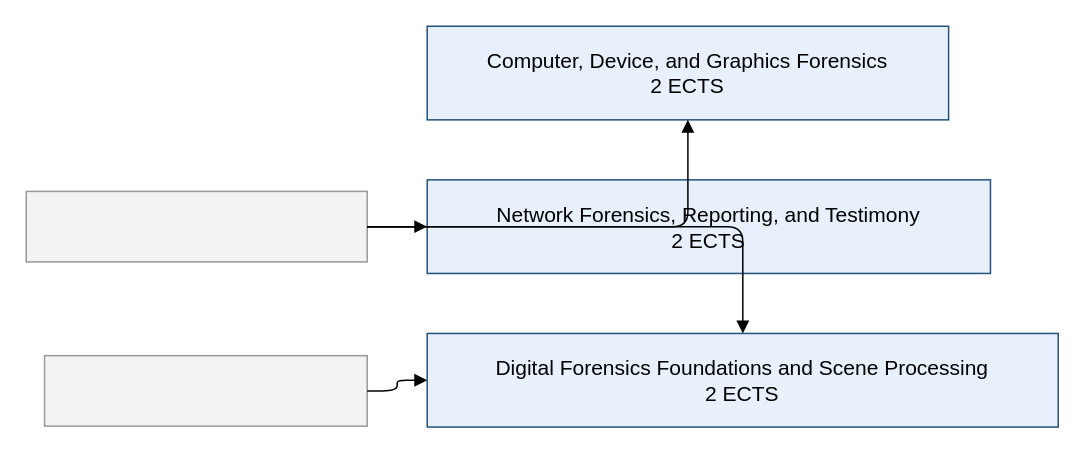
This 1085x455 diagram has some shape labels left out. The box of each missing label's shape, as (x1, y1, x2, y2) in pixels:
Cybersecurity (93470): (43, 354, 367, 426)
Digital Forensic (81676): (25, 190, 367, 262)
